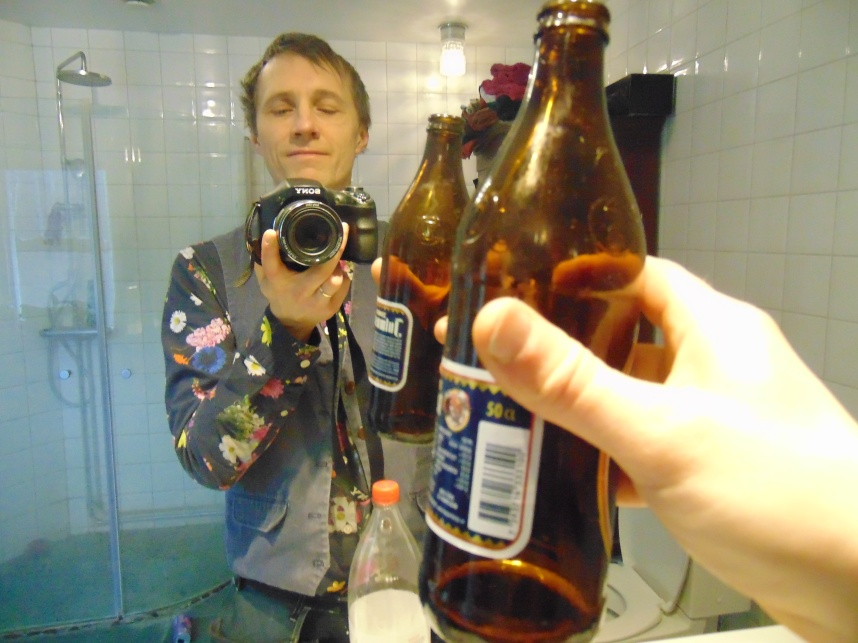glass_bottle: (418, 1, 647, 642), (364, 111, 476, 445)
plastic_bottle: (347, 477, 432, 643)
